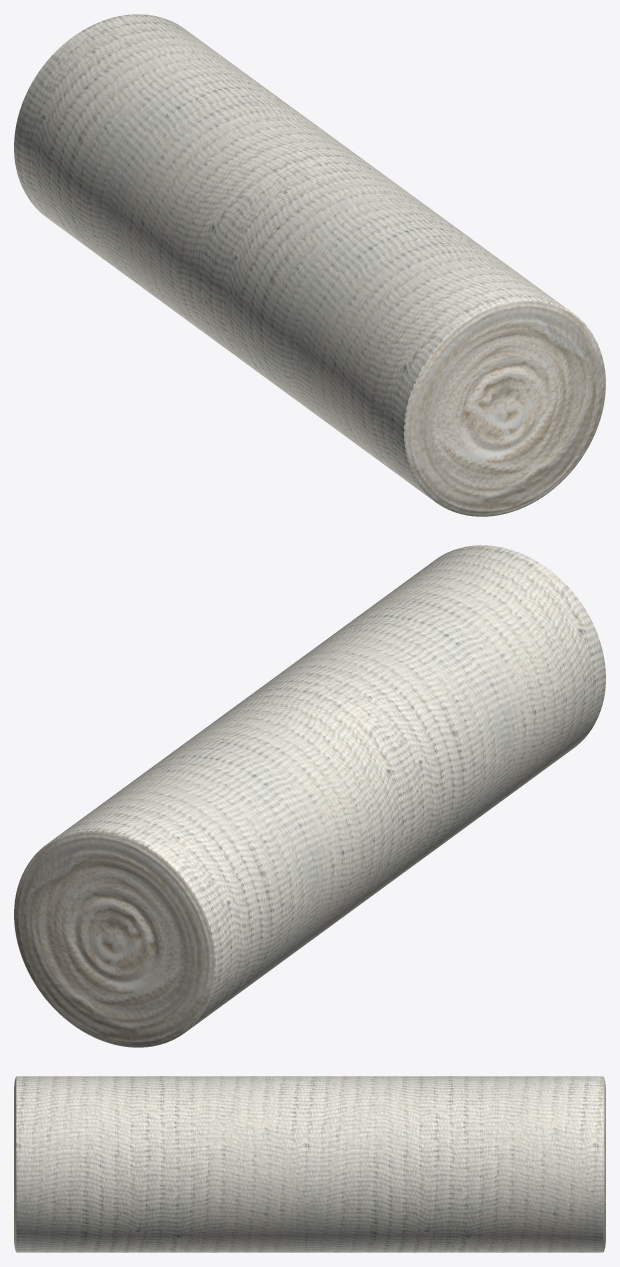
File: GauzeBandage1.fbx
The picture shows the model from 3 angles, top to bottom: view 1: azimuth 30°, elevation 25°; view 2: azimuth 150°, elevation 25°; view 3: azimuth 270°, elevation 25°; orthographic projection. The views are drawn at different scales.
Parts seen in each view (by area): view 1: cadnav.com; view 2: cadnav.com; view 3: cadnav.com.
Part boxes in pixels (x1=…): cadnav.com: x1=14, y1=14, x2=605, y2=516; cadnav.com: x1=14, y1=545, x2=605, y2=1047; cadnav.com: x1=14, y1=1076, x2=605, y2=1252.
Size of the model in its own units: 11.66 by 11.66 by 39.17.
